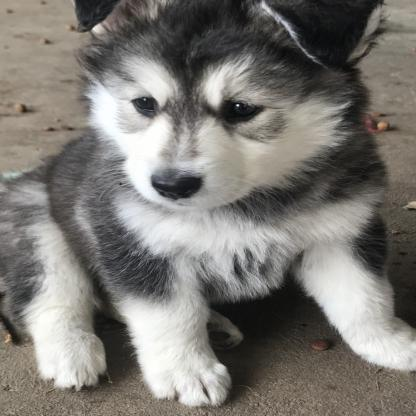husky: (9, 3, 414, 413)
